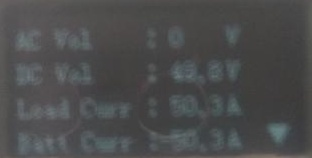NoClampMeter_Display: (0, 0, 312, 158)
